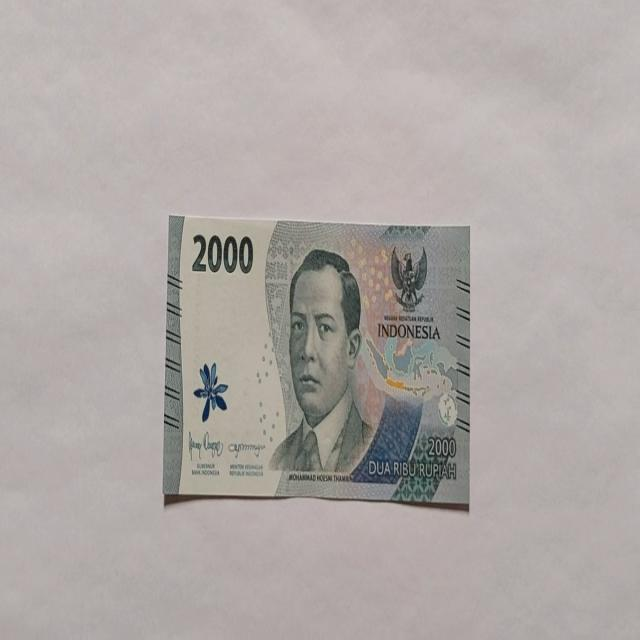dua ribu rupiah: (162, 213, 470, 507), (268, 247, 376, 477)
